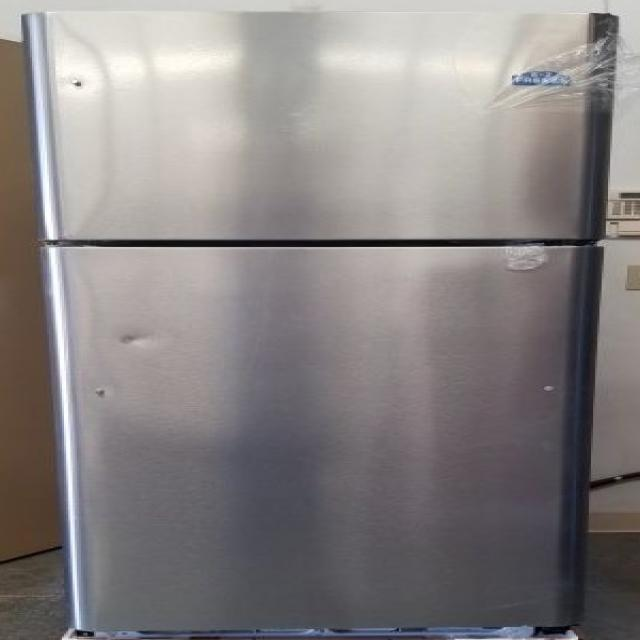dents: (95, 320, 188, 364)
